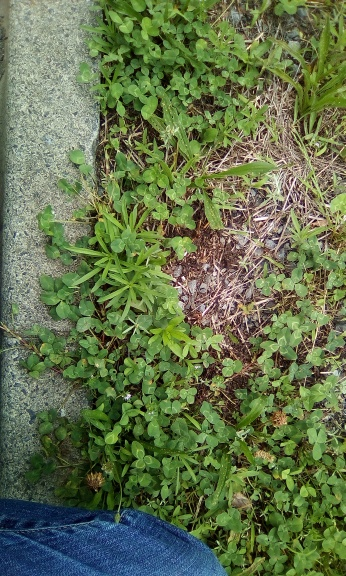4leaf: (170, 236, 197, 261)
